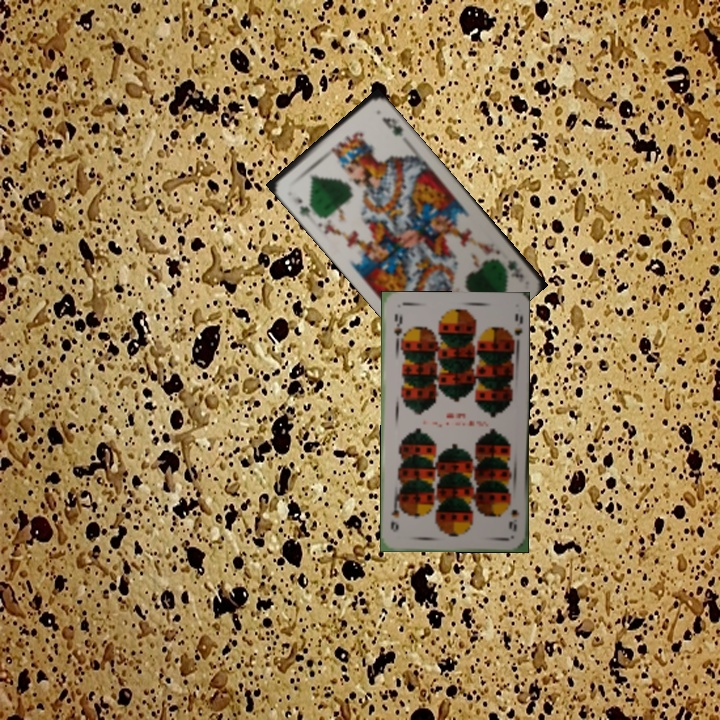GK: (289, 193, 318, 220), (503, 256, 526, 281)
S9: (390, 310, 404, 347), (505, 506, 522, 534)
